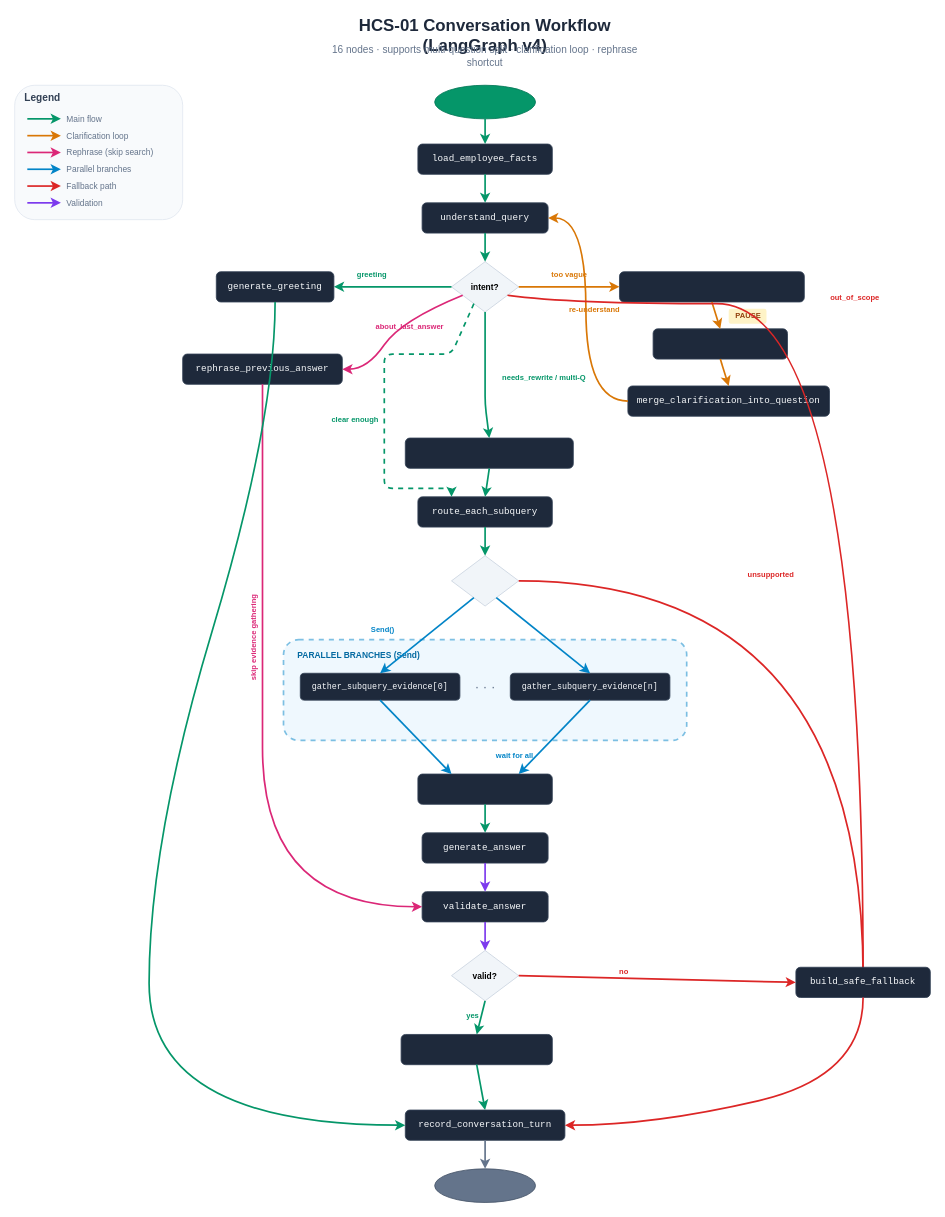
Some shapes in this 945 by 1217 pixel diagram are drawn without their labels. Each missing label, with the box of its shape:
assemble_evidence: (417, 773, 552, 804)
compose_clarification_question: (619, 271, 804, 302)
END: (434, 1168, 536, 1202)
finalize_verified_answer: (400, 1034, 552, 1065)
rewrite_and_decompose_query: (404, 437, 573, 468)
routes?: (451, 555, 519, 606)
START: (434, 84, 536, 119)
wait_for_clarification: (652, 328, 788, 359)
